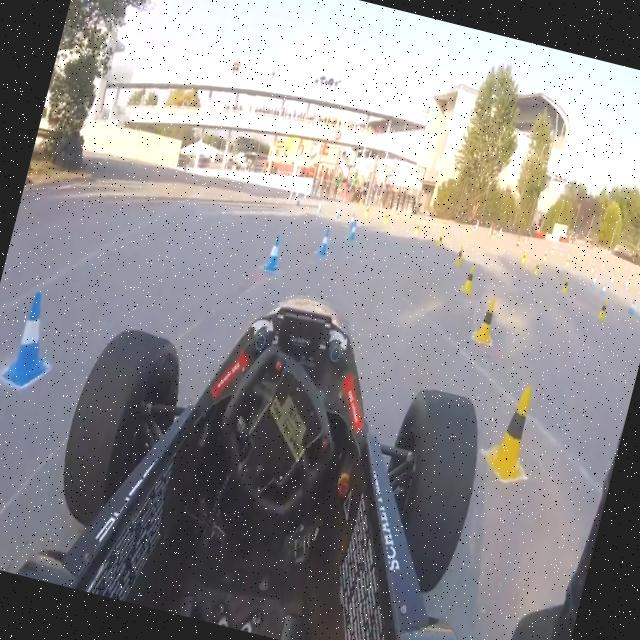blue_cone: (0, 281, 65, 392), (262, 230, 284, 272), (315, 228, 332, 258), (346, 220, 358, 242), (628, 297, 637, 315), (347, 212, 357, 228), (590, 277, 598, 290), (600, 284, 608, 296), (334, 207, 341, 220)
yellow_cone: (485, 380, 546, 486), (471, 294, 502, 348), (459, 264, 478, 296), (596, 298, 610, 321), (453, 246, 465, 266), (560, 276, 571, 296), (434, 234, 444, 248), (532, 264, 540, 276), (414, 222, 421, 235), (363, 206, 370, 218), (383, 212, 389, 224), (520, 252, 526, 264)
